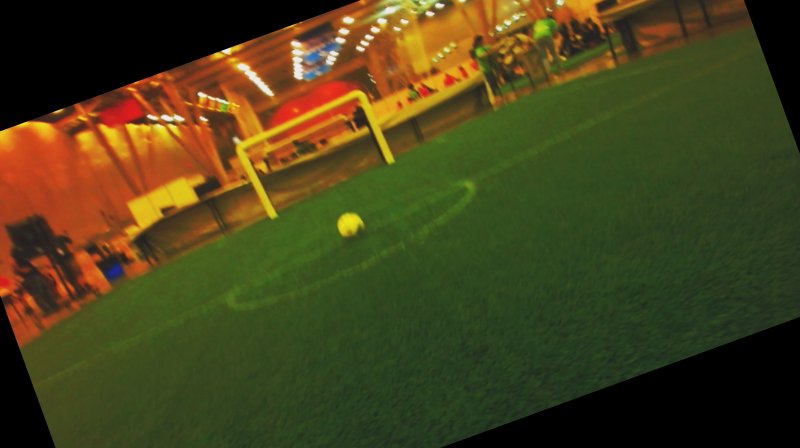post: (262, 201, 283, 228), (381, 149, 401, 171)
